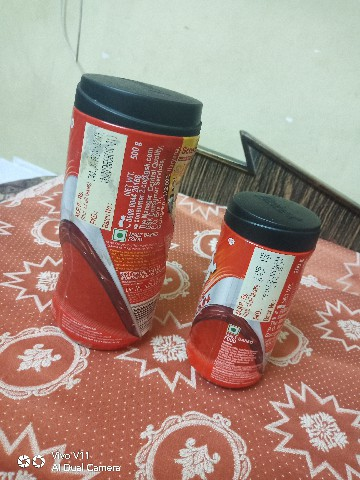boost big: (41, 65, 201, 367)
boost small: (186, 175, 318, 425)
